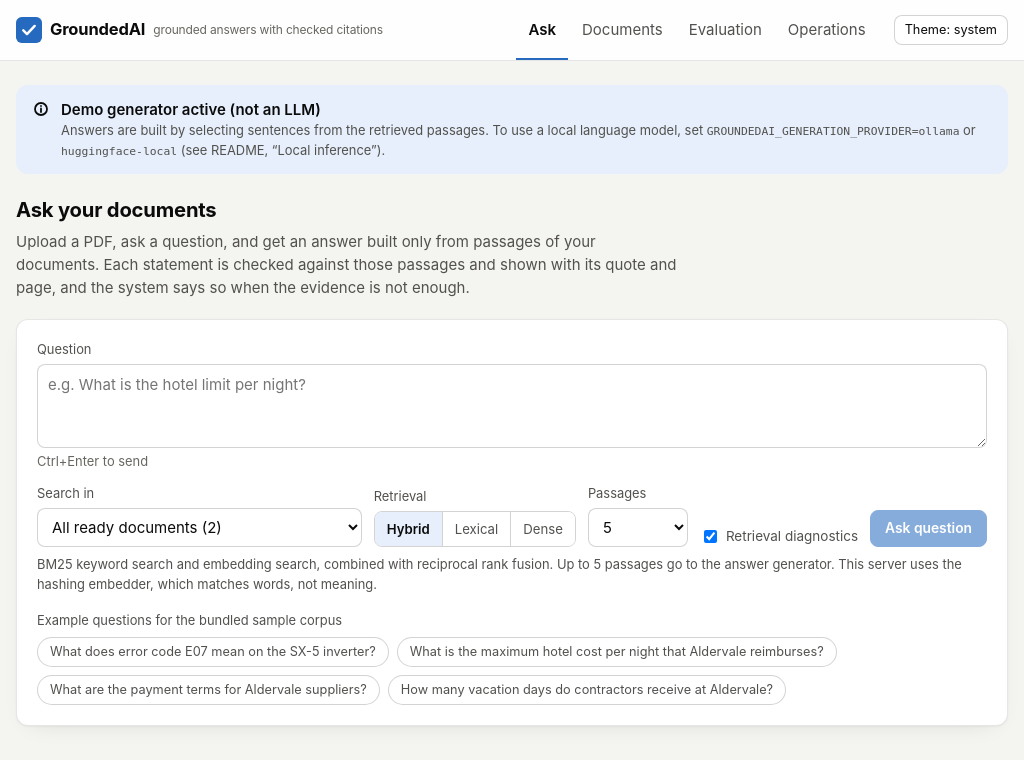
Test: choosing which documents to search › sends the selected document as document_ids and says what was searched
The image size is (1024, 760).
Expected: the dropdown labelled "Search in" is shown, [37, 508, 362, 547]
Type "What is the hotel limit?" into the text box labelled "Question" at (512, 406), box [37, 364, 987, 448]
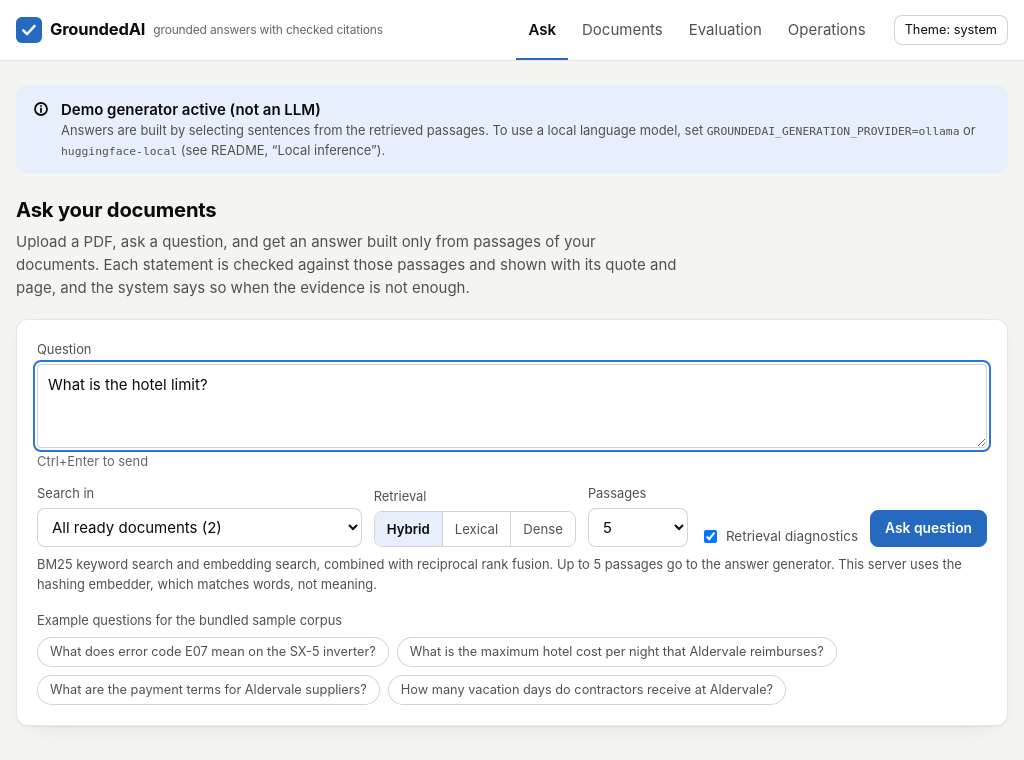
Select "Harbourline Ferries Passenger Guide" in the dropdown labelled "Search in" at (199, 528), box [37, 508, 362, 547]
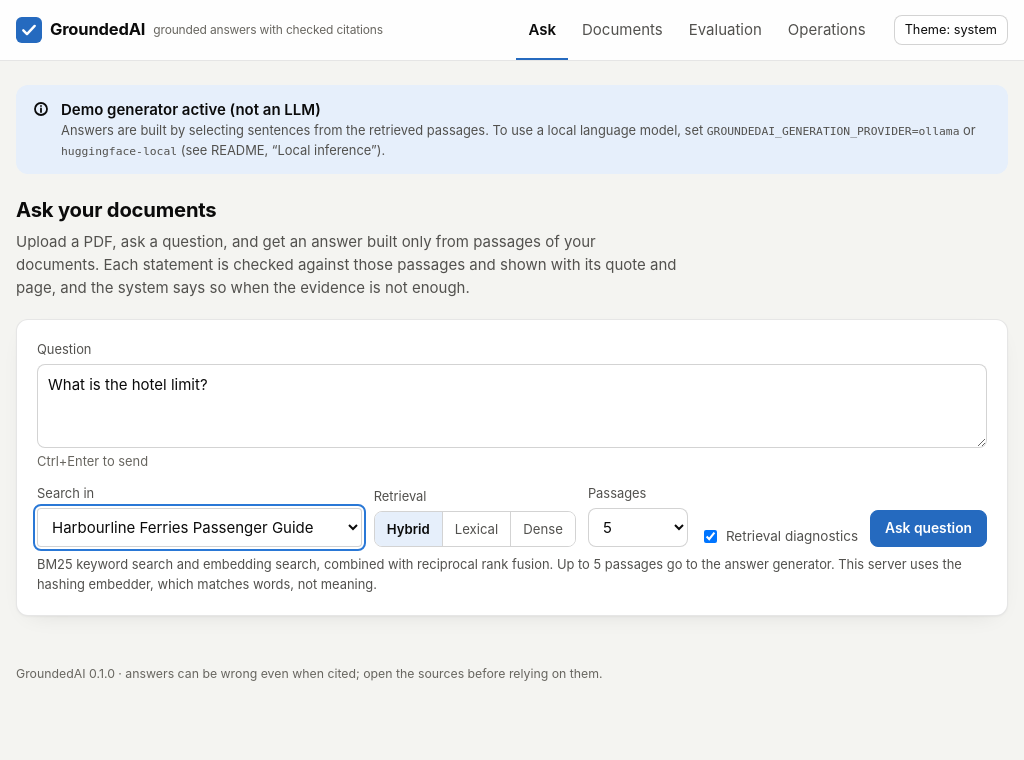
Click the button "Ask question" at (928, 529), box [870, 510, 987, 547]
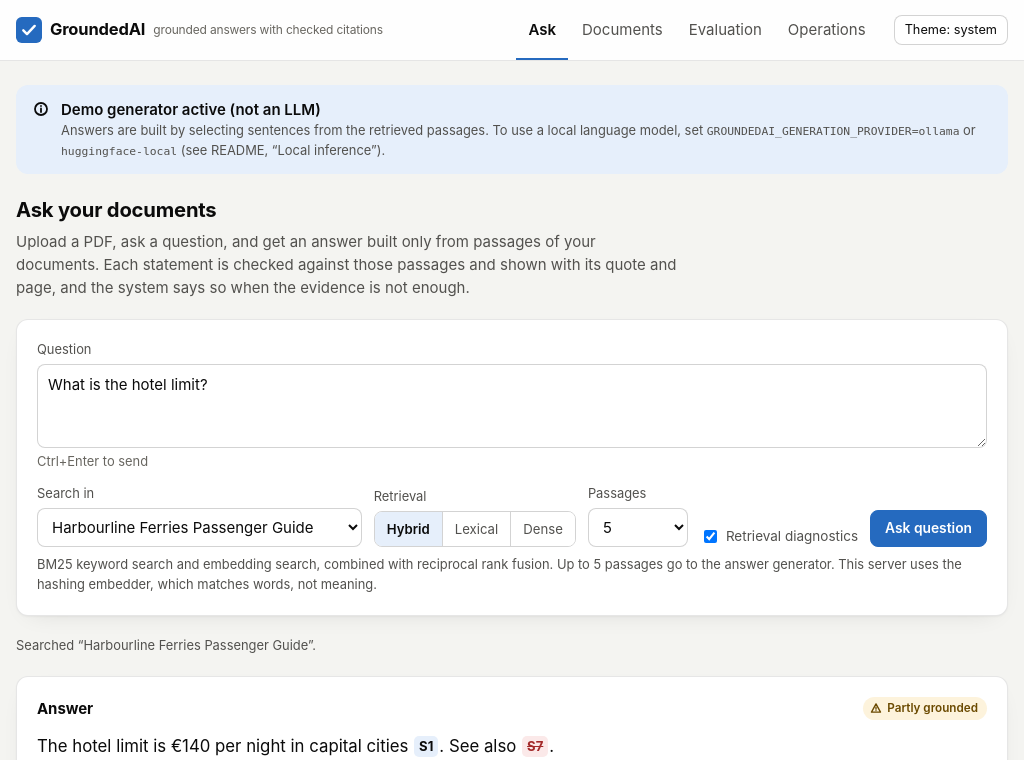
Expected: the text "Searched “Harbourline Ferries Passenger Guide”." is shown, [16, 638, 316, 653]
Select "All ready documents (2)" in the dropdown labelled "Search in" at (199, 528), box [37, 508, 362, 547]
(page scrolled)
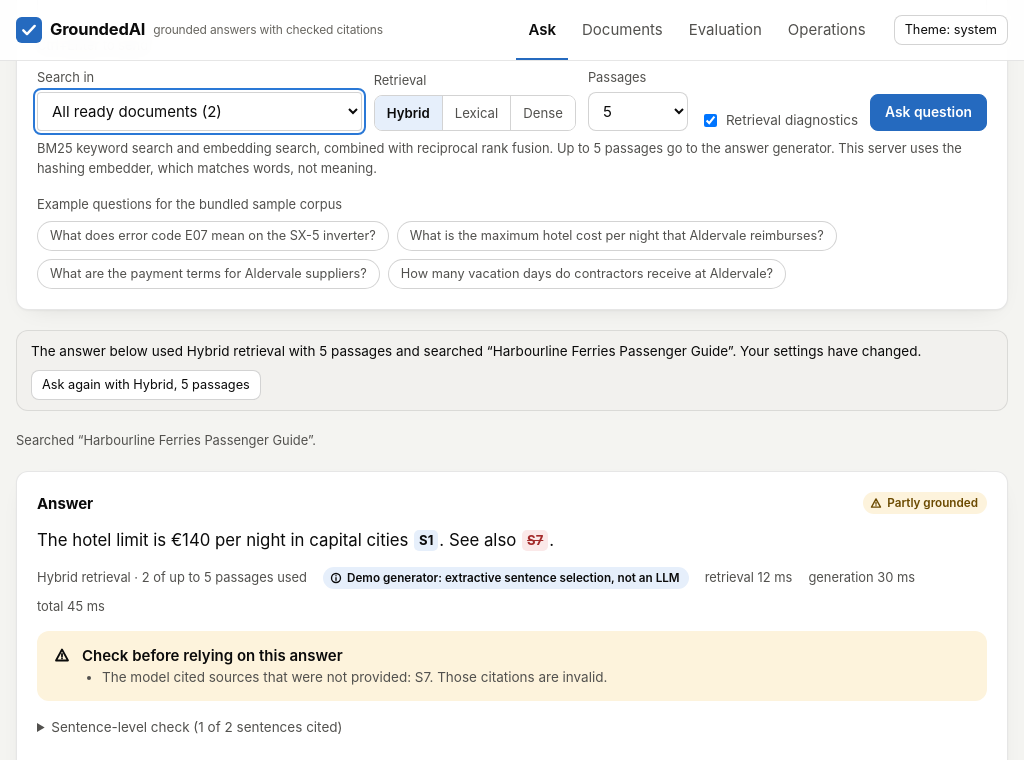
Expected: the text "searched “Harbourline Ferries Passenger Guide”. Your settings have changed" is shown, [31, 341, 921, 362]
Click the button "Ask again with Hybrid, 5 passages" at (146, 385), box [31, 370, 261, 400]
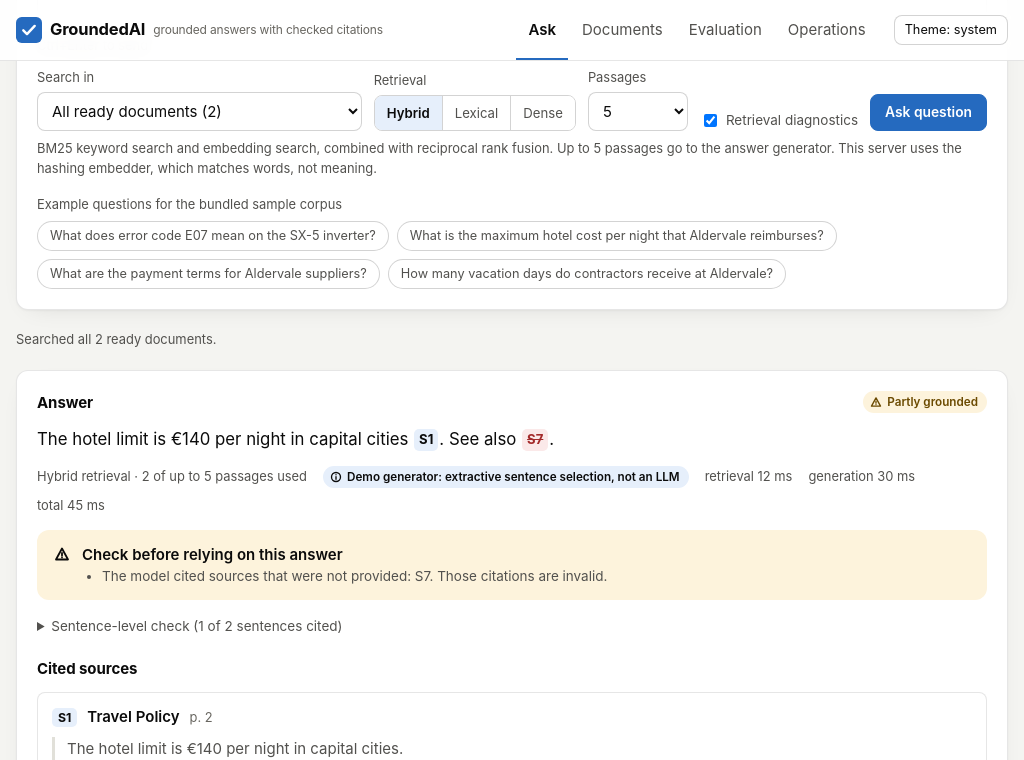
Expected: the text "Searched all 2 ready documents." is shown, [16, 332, 216, 347]
